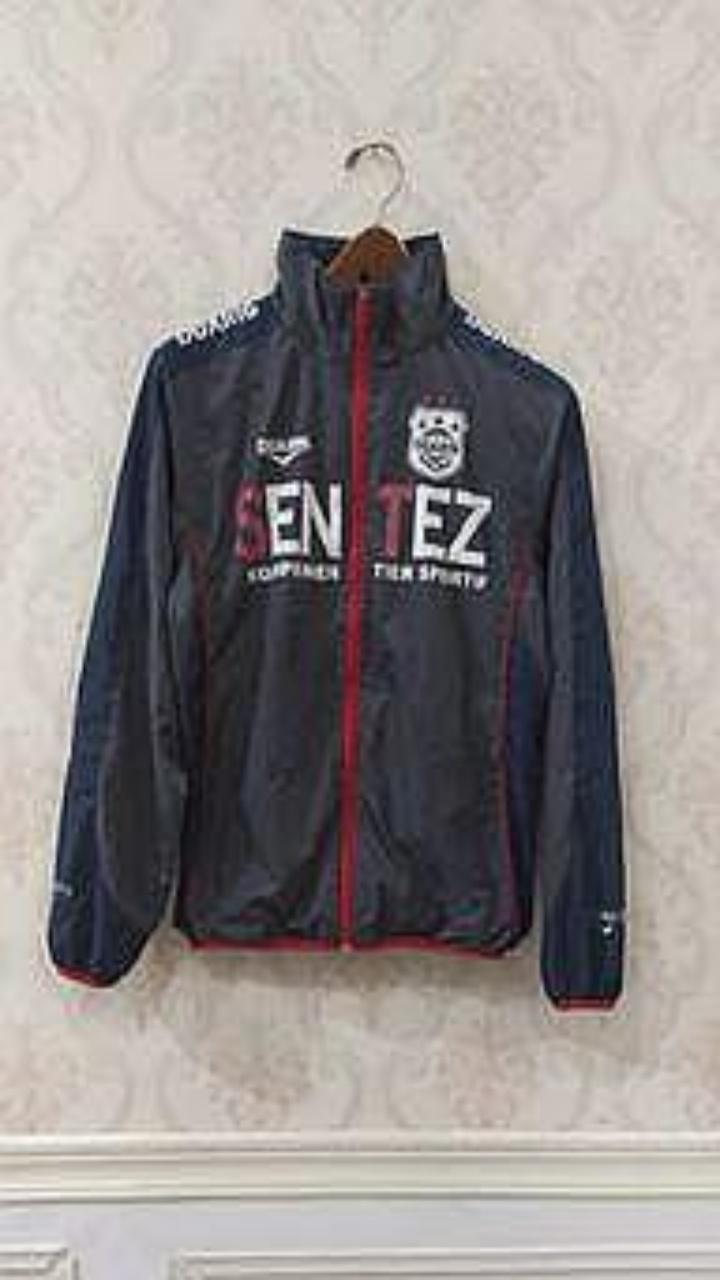Sports_Jacket: (47, 228, 625, 1007)
